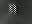person: (14, 4, 18, 17), (9, 4, 13, 16)
